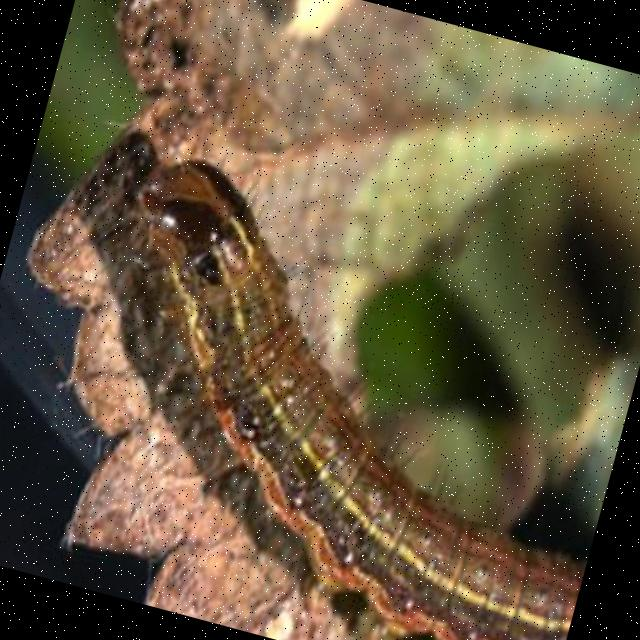worm: (37, 139, 640, 640)
